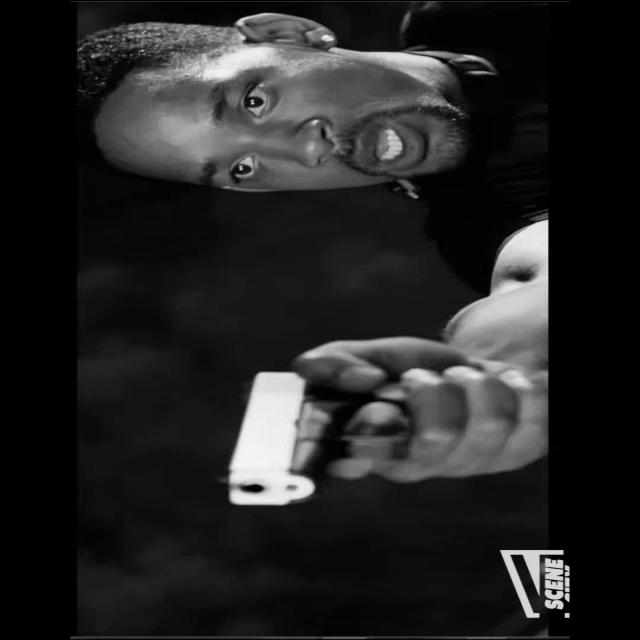weapons: (195, 342, 486, 516)
